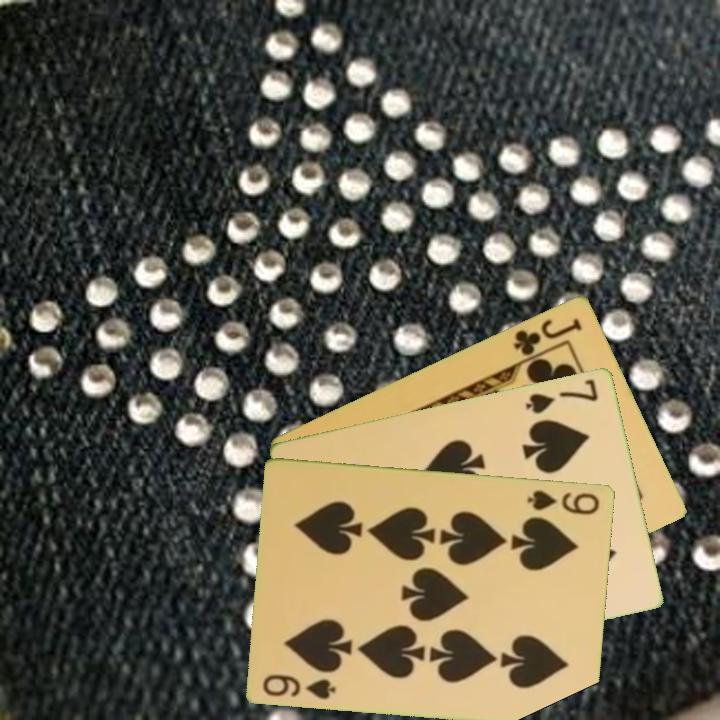7s: (522, 375, 601, 416)
9s: (259, 670, 339, 702), (524, 486, 603, 518)
Jc: (510, 313, 585, 359)
